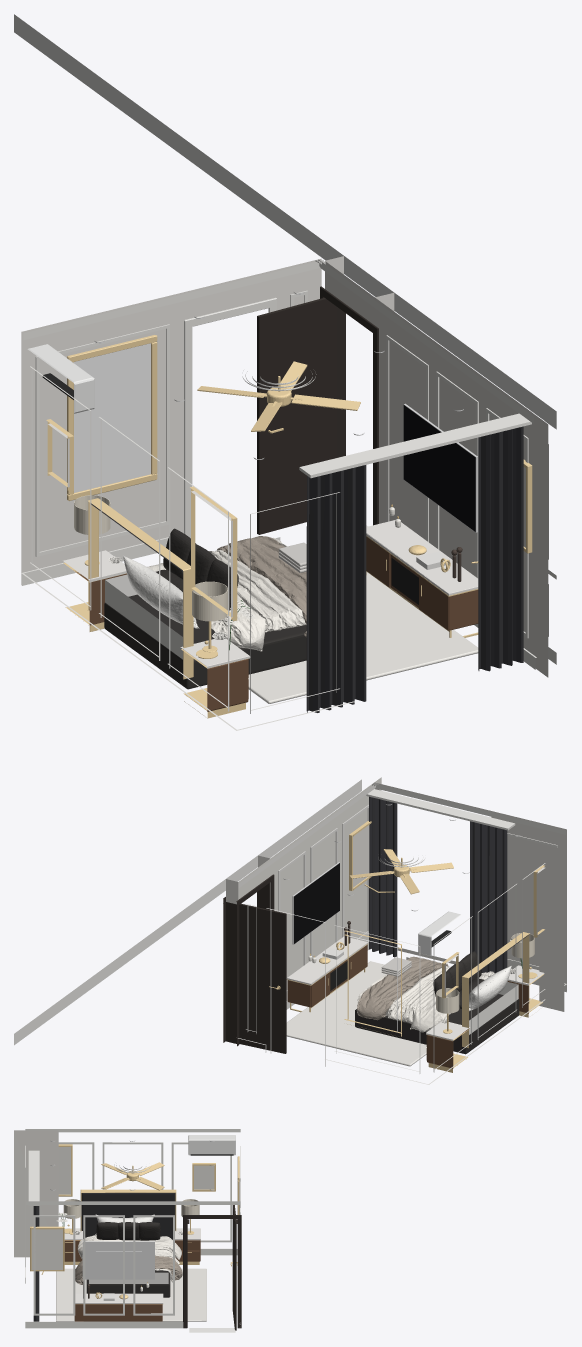
File: MASTER.glb
3 views of the same model, one above another, from view 1: azimuth 30°, elevation 25°; view 2: azimuth 150°, elevation 25°; view 3: azimuth 270°, elevation 25° (orthographic). The views are drawn at different scales.
Visible parts, largest first — view 1: WEB_MASTER; view 2: WEB_MASTER; view 3: WEB_MASTER.
Boxes of the visible parts, x1,y1,x2,y2 form: WEB_MASTER: (14, 14, 556, 730); WEB_MASTER: (14, 777, 566, 1084); WEB_MASTER: (14, 1129, 241, 1332).
Bounding box in the file's own units: 3.65 × 2.5 × 9.9.
